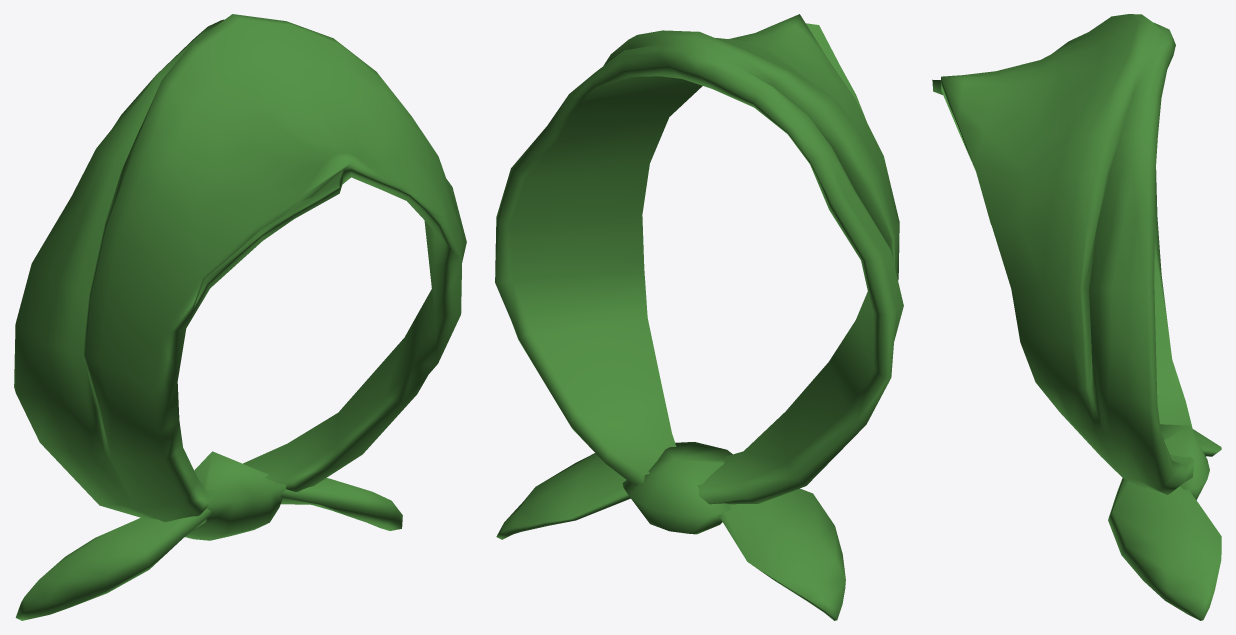
The model's file is DerrickScarf.fbx.
3 views of the same model, side by side, from view 1: azimuth 30°, elevation 25°; view 2: azimuth 150°, elevation 25°; view 3: azimuth 270°, elevation 25° (orthographic). The views are drawn at different scales.
Parts seen in each view (by area): view 1: Derrick; view 2: Derrick; view 3: Derrick.
Part boxes in pixels (left/top/right/bottom): Derrick: left=14, top=14, right=466, bottom=620; Derrick: left=495, top=14, right=903, bottom=620; Derrick: left=932, top=14, right=1221, bottom=620.
Size of the model in its own units: 2035 by 2575 by 1300.
